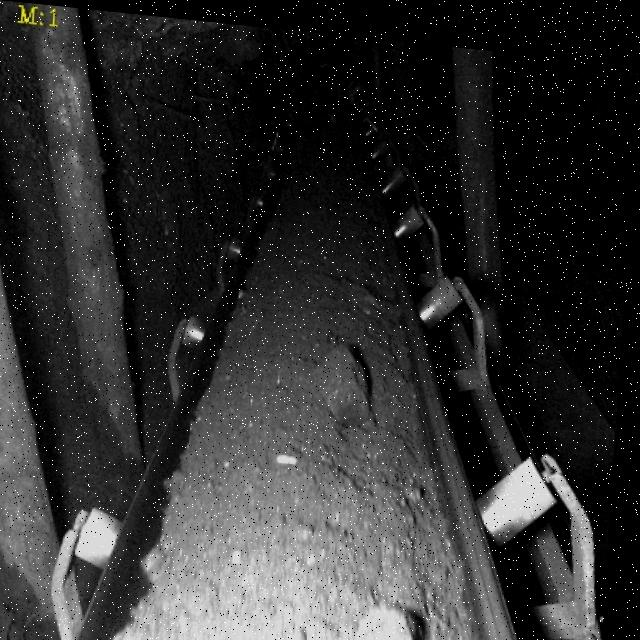large_sized_coal: (314, 335, 380, 422), (359, 593, 427, 640)
